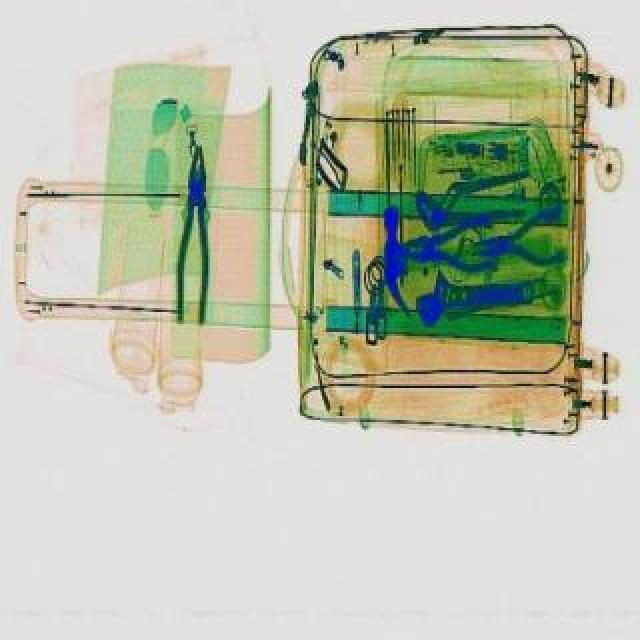scissors: (412, 262, 536, 324)
wrench: (172, 142, 214, 322), (464, 206, 568, 272), (398, 212, 494, 272)
